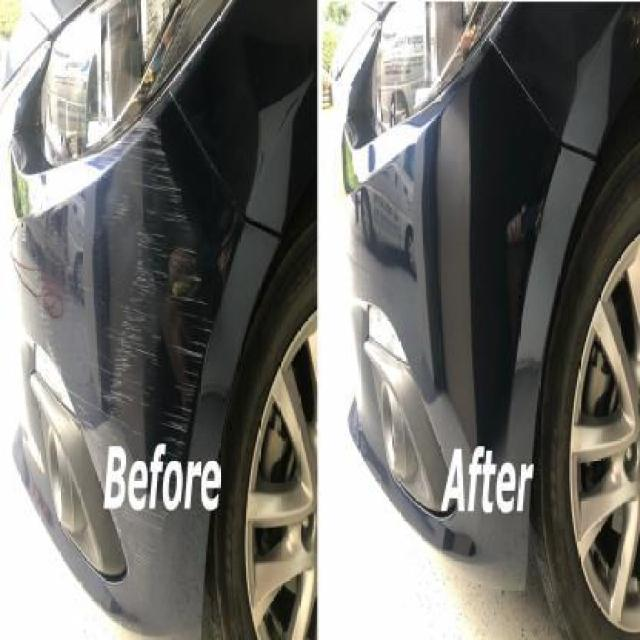scratch: (93, 114, 213, 443)
